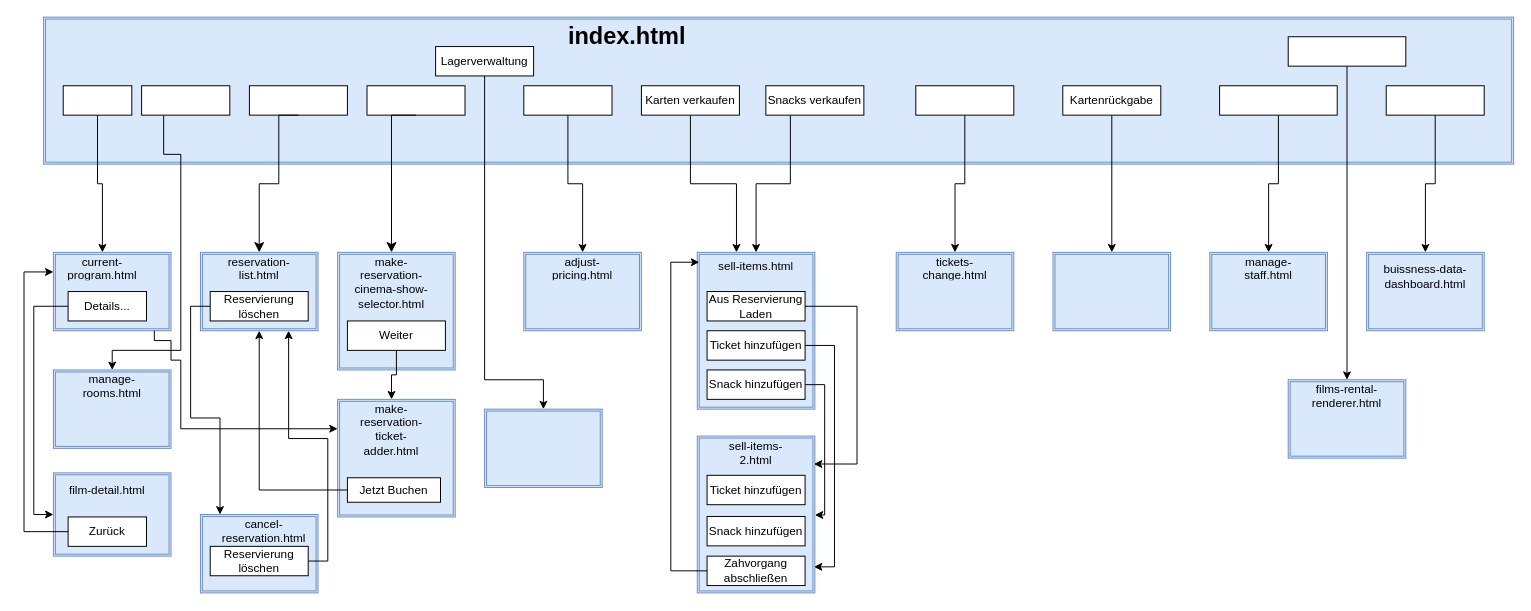
The diagram is 1531 pixels wide and 611 high, and some of its shapes have lost their labels. Here are the shapes that lost their labels. From the top down, the box of each, then its label:
(1287, 36, 1406, 66): Filme ausleien
(62, 85, 132, 115): Programm
(141, 85, 230, 115): Saalverwaltung
(248, 85, 347, 115): Meine Reservierungen
(366, 85, 465, 115): Plätze Reservieren
(523, 85, 612, 115): Preisgestaltung
(915, 85, 1014, 115): Kartentausch
(1219, 85, 1337, 115): Personalverwaltung
(1385, 85, 1484, 115): Statistiken
(1052, 251, 1171, 331): tickets-return.html
(484, 408, 602, 488): manage-storage.html
